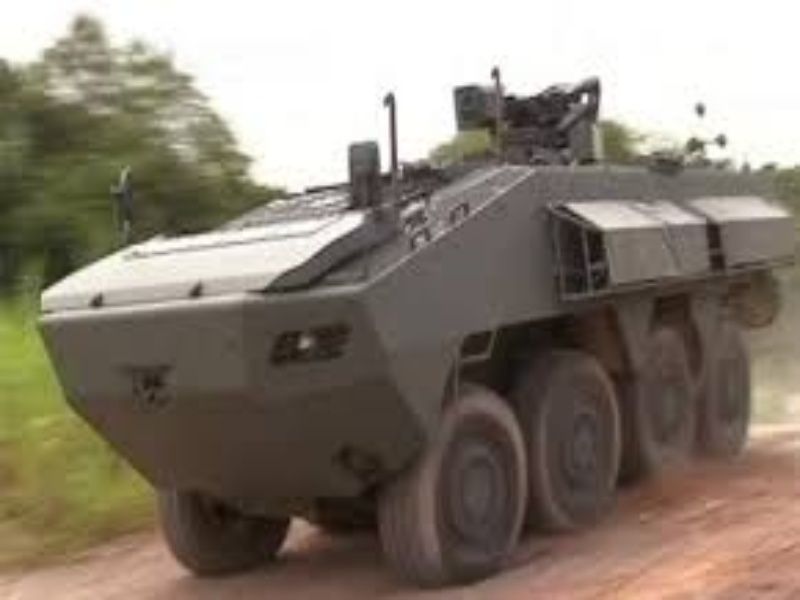tank: (36, 65, 799, 590)
